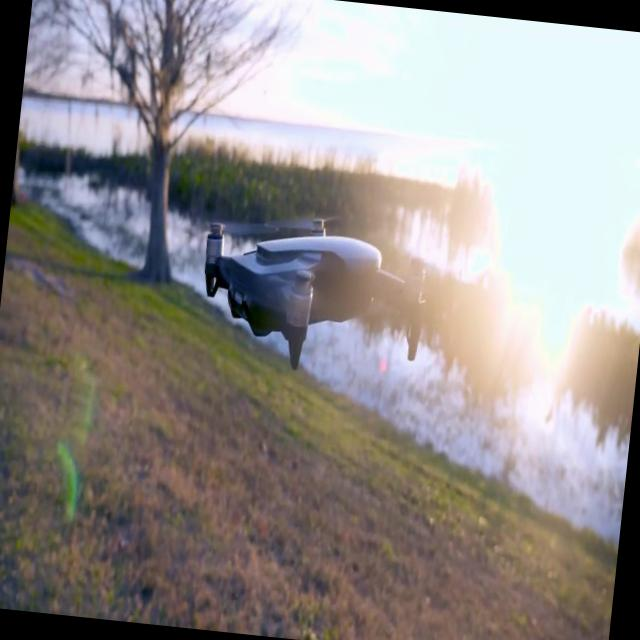drone: (192, 202, 434, 386)
